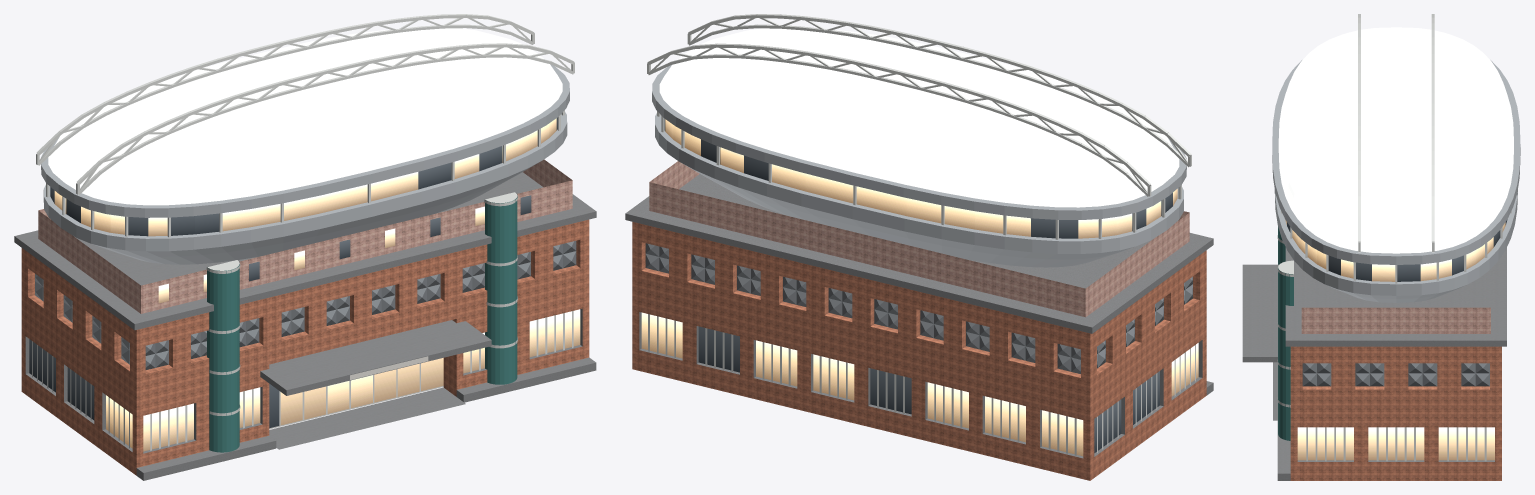
Rendered from campus_gymext.glb.
The picture shows the model from 3 angles, left to right: view 1: azimuth 30°, elevation 25°; view 2: azimuth 150°, elevation 25°; view 3: azimuth 270°, elevation 25°; orthographic projection. The views are drawn at different scales.
Parts seen in each view (by area): view 1: gym_dome, gym_tile, gym_conc, gym_glass, gym_silver, gym_white, gym_tile2, gym_teal, gym_metal; view 2: gym_tile, gym_dome, gym_glass, gym_silver, gym_white, gym_tile2, gym_conc, gym_metal; view 3: gym_dome, gym_tile, gym_conc, gym_silver, gym_glass, gym_tile2, gym_white, gym_metal, gym_teal.
Part boxes in pixels (left/top/right/bottom): gym_dome: left=48, top=28, right=562, bottom=205; gym_tile: left=21, top=219, right=589, bottom=475; gym_conc: left=14, top=172, right=596, bottom=480; gym_glass: left=29, top=117, right=580, bottom=451; gym_silver: left=41, top=64, right=569, bottom=264; gym_white: left=32, top=14, right=574, bottom=450; gym_tile2: left=38, top=159, right=572, bottom=313; gym_teal: left=207, top=197, right=517, bottom=452; gym_metal: left=35, top=241, right=576, bottom=369; gym_tile: left=632, top=222, right=1206, bottom=480; gym_dome: left=659, top=28, right=1179, bottom=207; gym_glass: left=641, top=119, right=1198, bottom=456; gym_silver: left=652, top=65, right=1186, bottom=267; gym_white: left=647, top=14, right=1195, bottom=455; gym_tile2: left=649, top=161, right=1189, bottom=317; gym_conc: left=625, top=174, right=1213, bottom=458; gym_metal: left=645, top=243, right=1192, bottom=373; gym_dome: left=1278, top=27, right=1513, bottom=253; gym_tile: left=1290, top=346, right=1501, bottom=480; gym_conc: left=1242, top=247, right=1506, bottom=480; gym_silver: left=1272, top=60, right=1520, bottom=302; gym_glass: left=1285, top=219, right=1507, bottom=460; gym_tile2: left=1301, top=307, right=1490, bottom=333; gym_white: left=1277, top=14, right=1511, bottom=461; gym_metal: left=1302, top=363, right=1489, bottom=386; gym_teal: left=1278, top=226, right=1293, bottom=440.
Size of the model in its own units: 32.96 by 20.42 by 17.36.
10 materials, 3 textured.
